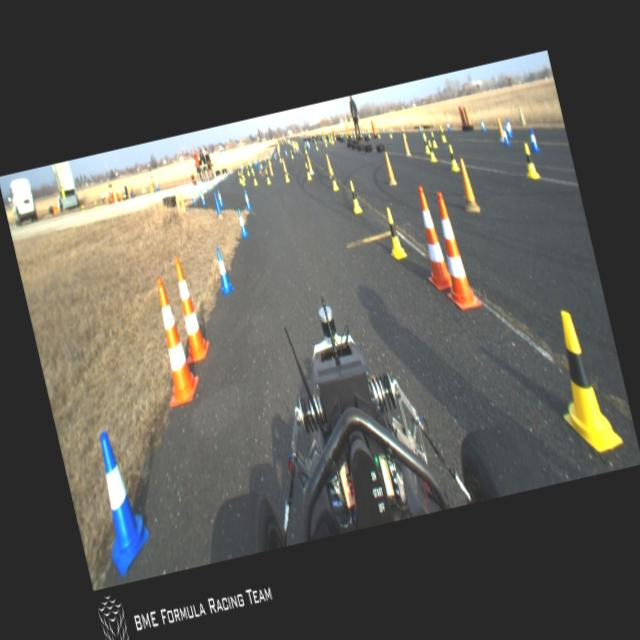blue_cone: (84, 426, 158, 578), (212, 246, 234, 296), (234, 206, 250, 240), (526, 127, 540, 154), (242, 188, 252, 211), (500, 125, 510, 147), (503, 120, 512, 140), (215, 188, 224, 208), (198, 189, 206, 206), (190, 188, 197, 204), (479, 118, 486, 134), (446, 120, 452, 133), (196, 185, 202, 198), (204, 180, 210, 192), (211, 175, 216, 188), (217, 172, 222, 184), (389, 124, 394, 134), (223, 169, 227, 180), (228, 166, 232, 176), (418, 124, 422, 133), (253, 158, 257, 167), (263, 155, 267, 164), (273, 152, 277, 161), (284, 148, 288, 157)
large_orange_cone: (140, 274, 204, 408), (423, 188, 482, 314), (163, 254, 213, 364), (407, 184, 453, 294)
yellow_cone: (540, 303, 624, 459), (380, 204, 408, 262), (519, 140, 541, 182), (346, 178, 363, 215), (445, 142, 461, 174), (426, 138, 438, 164), (328, 168, 340, 192), (421, 131, 431, 155), (303, 161, 312, 181), (428, 130, 438, 148), (438, 124, 447, 144), (282, 166, 290, 184), (264, 168, 272, 185), (251, 170, 258, 186), (239, 172, 246, 186), (240, 168, 246, 181), (237, 170, 242, 183), (245, 164, 250, 176), (249, 162, 254, 173), (388, 128, 393, 139), (258, 158, 262, 169), (376, 128, 380, 139), (278, 152, 282, 162), (290, 149, 294, 159), (303, 144, 307, 154), (314, 141, 318, 150)
